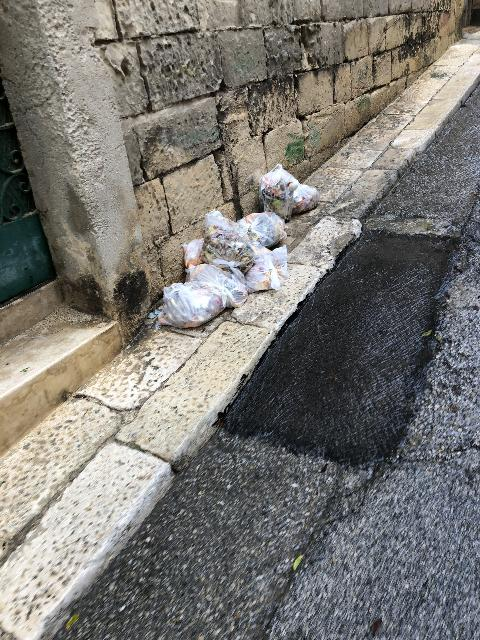Organic -White-: (158, 282, 226, 328), (201, 225, 255, 274), (190, 263, 248, 307), (259, 164, 300, 220), (245, 245, 289, 292), (237, 212, 287, 248), (205, 209, 241, 233), (292, 183, 319, 214), (183, 238, 203, 274)
